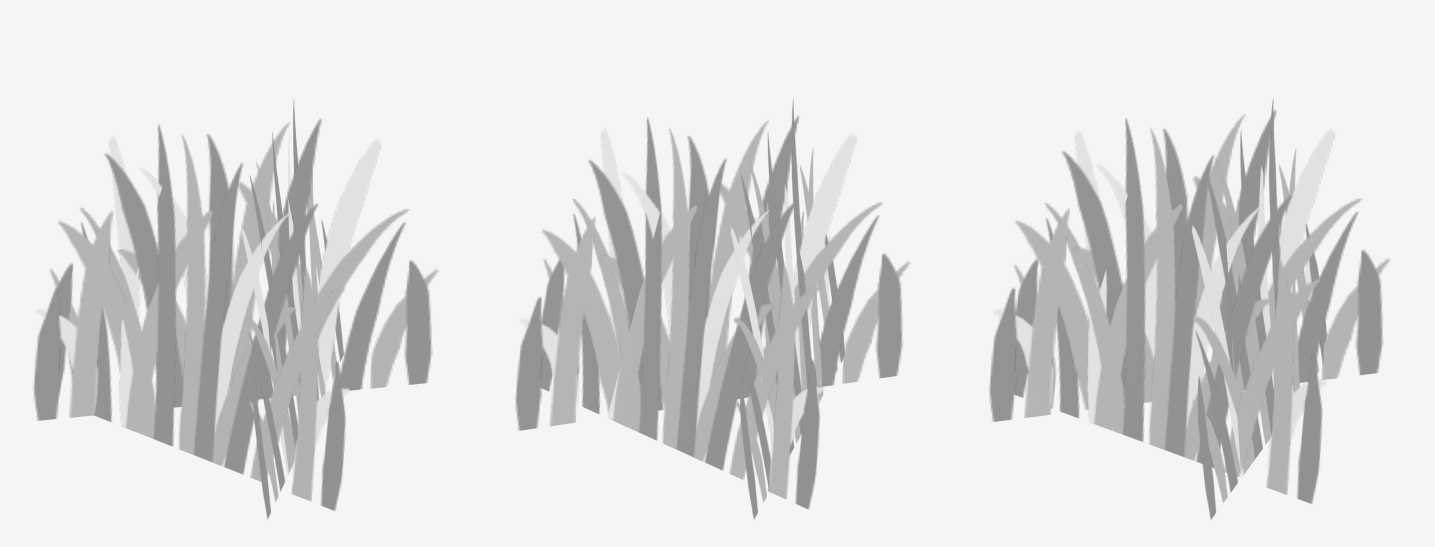
The model's file is gras-quads.glb.
3 views of the same model, side by side, from view 1: azimuth 30°, elevation 25°; view 2: azimuth 150°, elevation 25°; view 3: azimuth 270°, elevation 25° (orthographic).
Visible parts, largest first — view 1: gras-quads; view 2: gras-quads; view 3: gras-quads.
Boxes of the visible parts, x1,y1,x2,y2 form: gras-quads: (33,99,438,519); gras-quads: (515,99,910,519); gras-quads: (989,98,1390,519).
Size of the model in its own units: 0.2464 by 0.1984 by 0.2467.
Materials: 1 (1 with a texture image).
